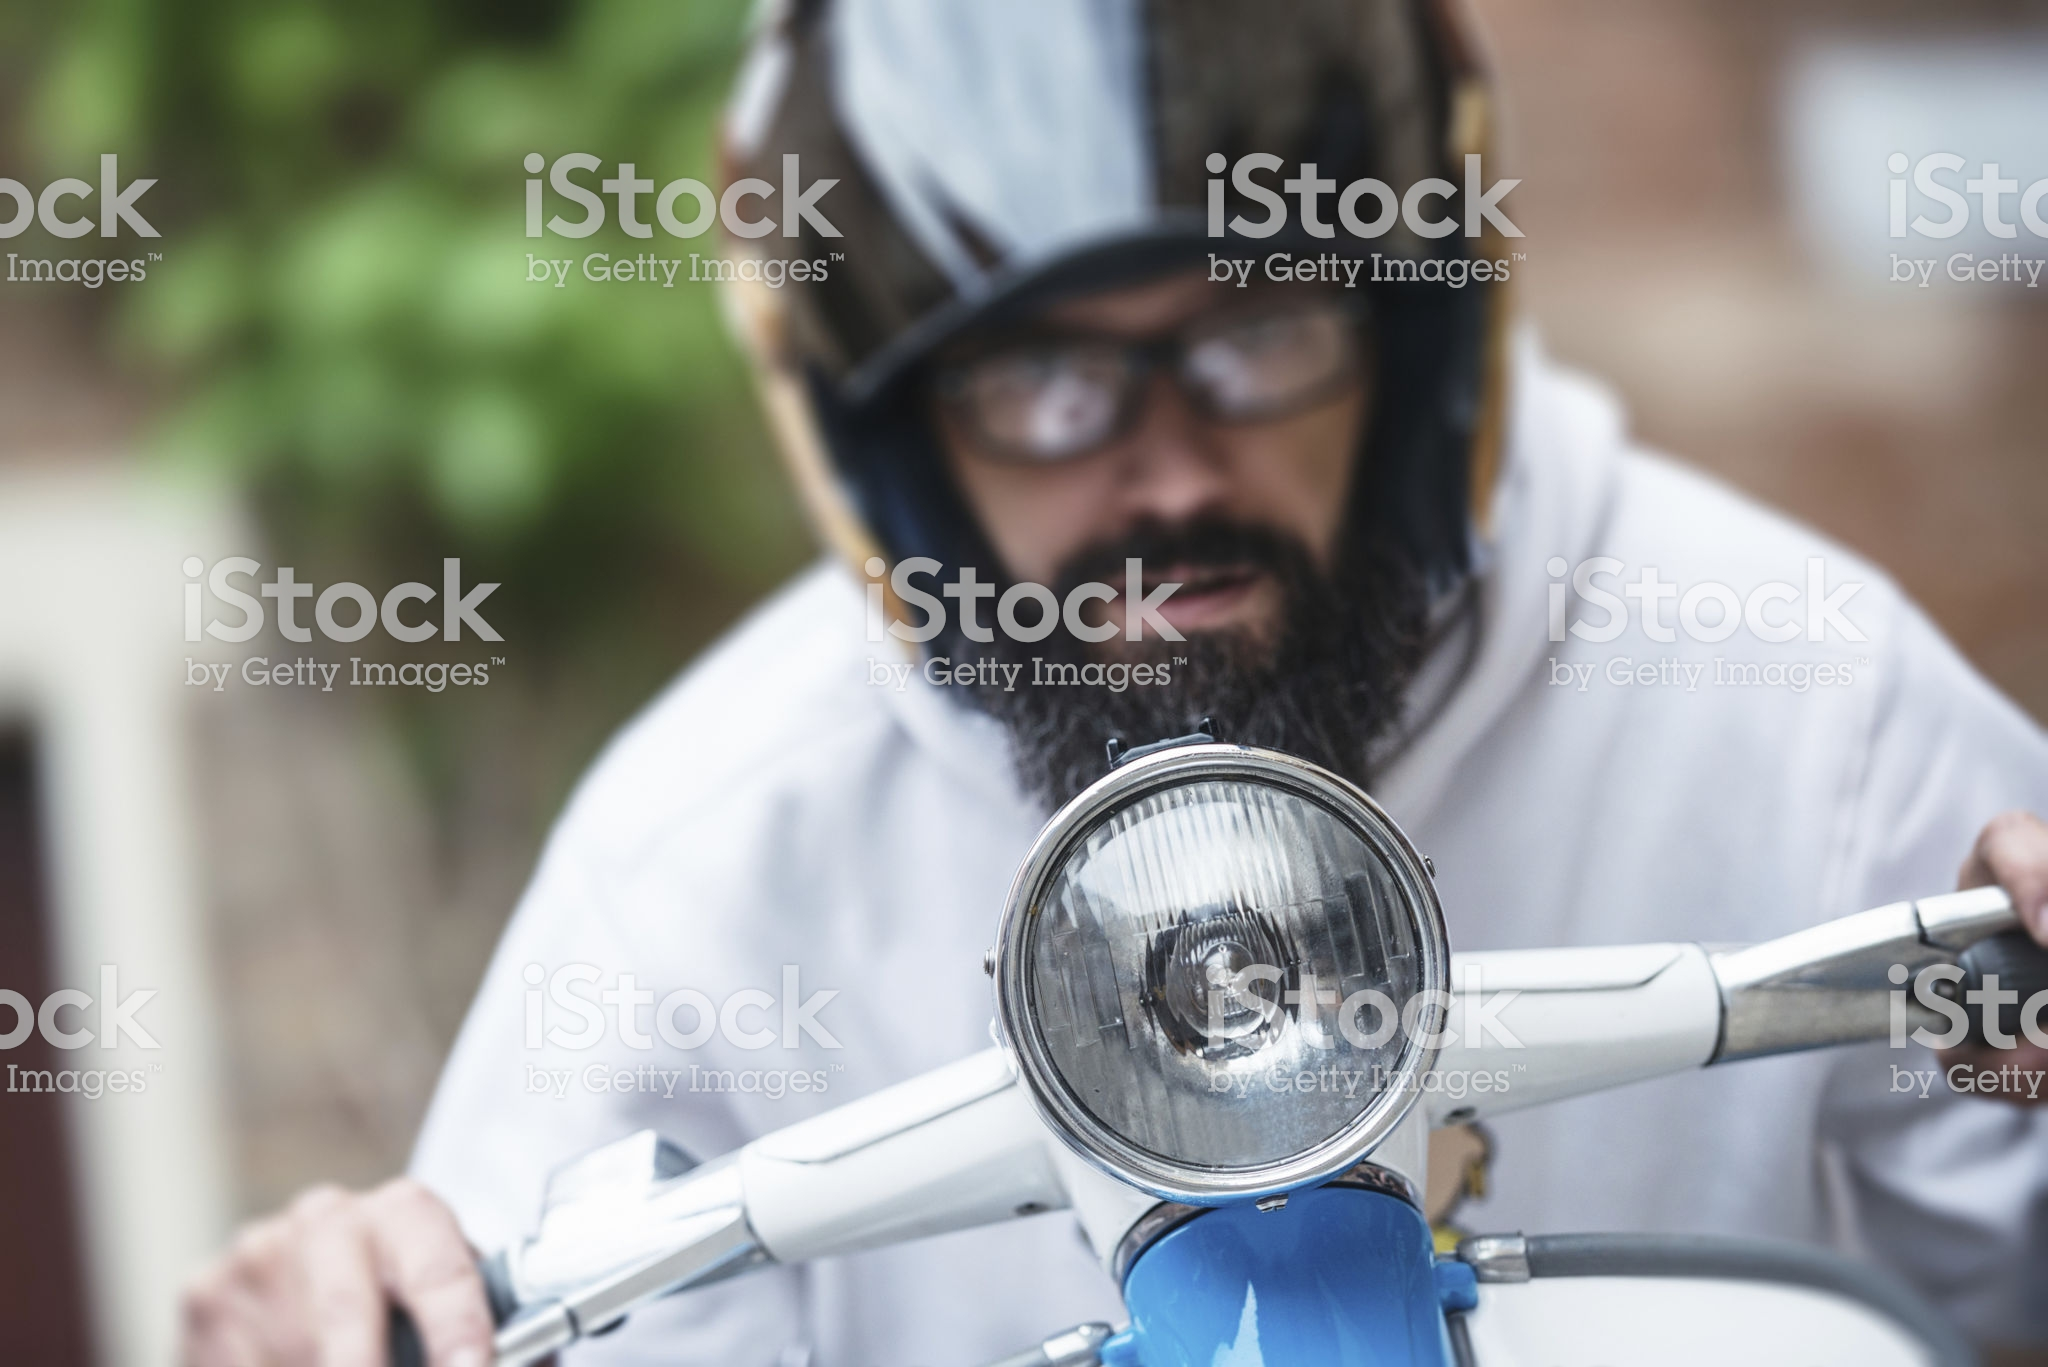helmet: (711, 14, 1563, 590)
